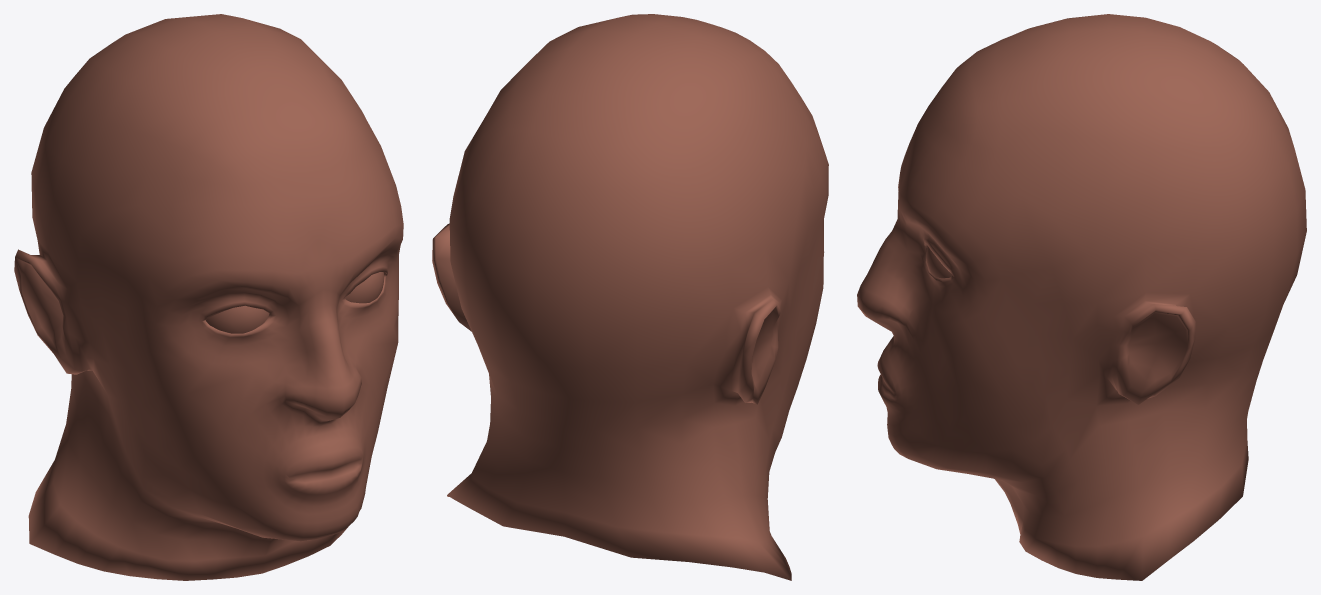
File: Head.fbx
3 renders of one model, left to right at view 1: azimuth 30°, elevation 25°; view 2: azimuth 150°, elevation 25°; view 3: azimuth 270°, elevation 25°, orthographic. The views are drawn at different scales.
Visible parts, largest first — view 1: Head; view 2: Head; view 3: Head.
Part boxes in pixels (bbox=[...]): Head: bbox=[14, 14, 403, 580]; Head: bbox=[432, 14, 828, 580]; Head: bbox=[857, 14, 1306, 580].
Bounding box in the file's own units: 72.84 × 104 × 86.06.
